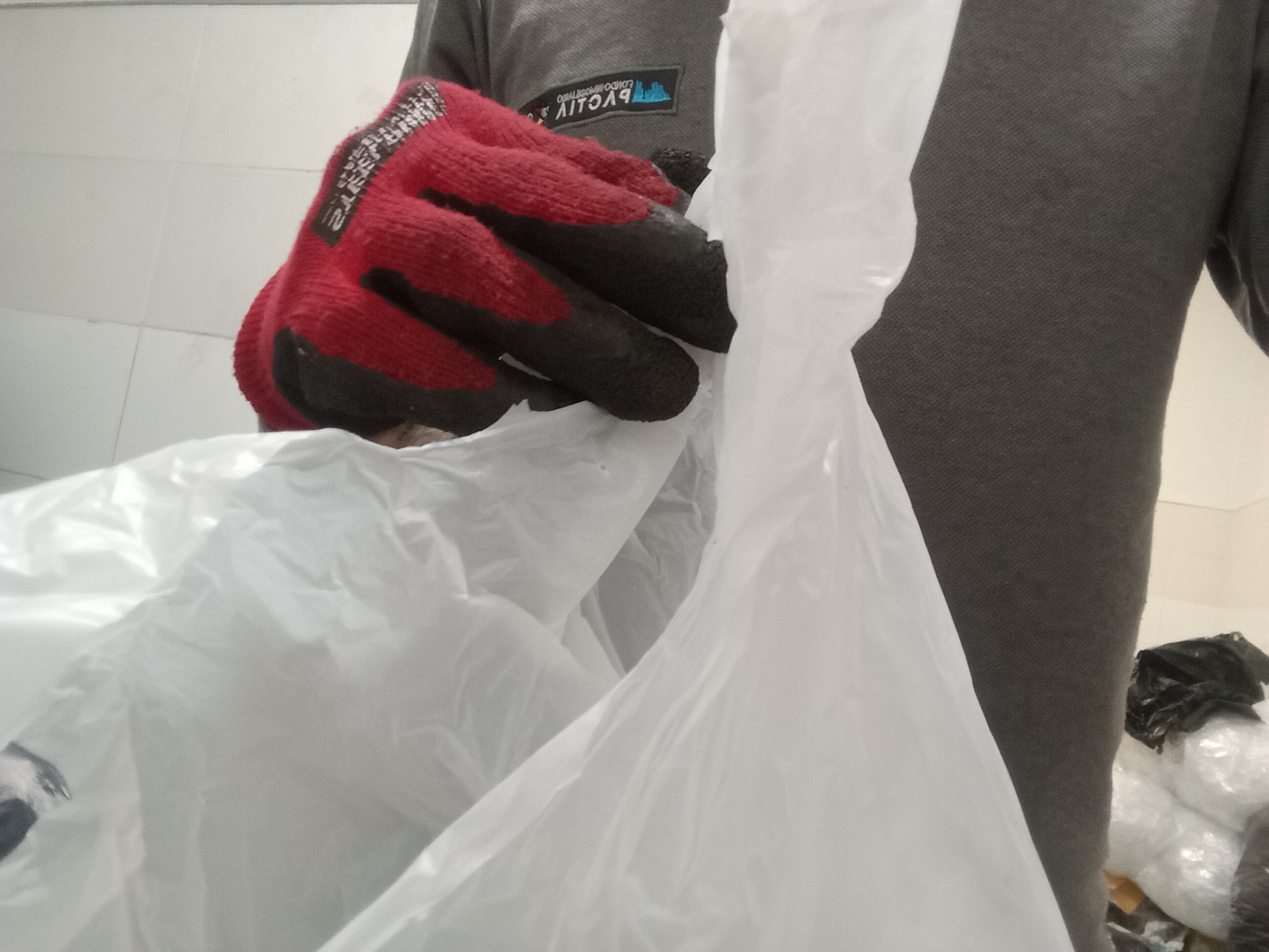Plastico: (0, 0, 1074, 952)
